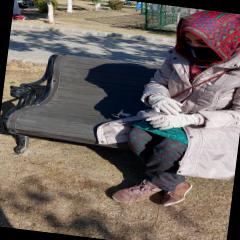gloved: (145, 110, 193, 132), (145, 92, 180, 114)
